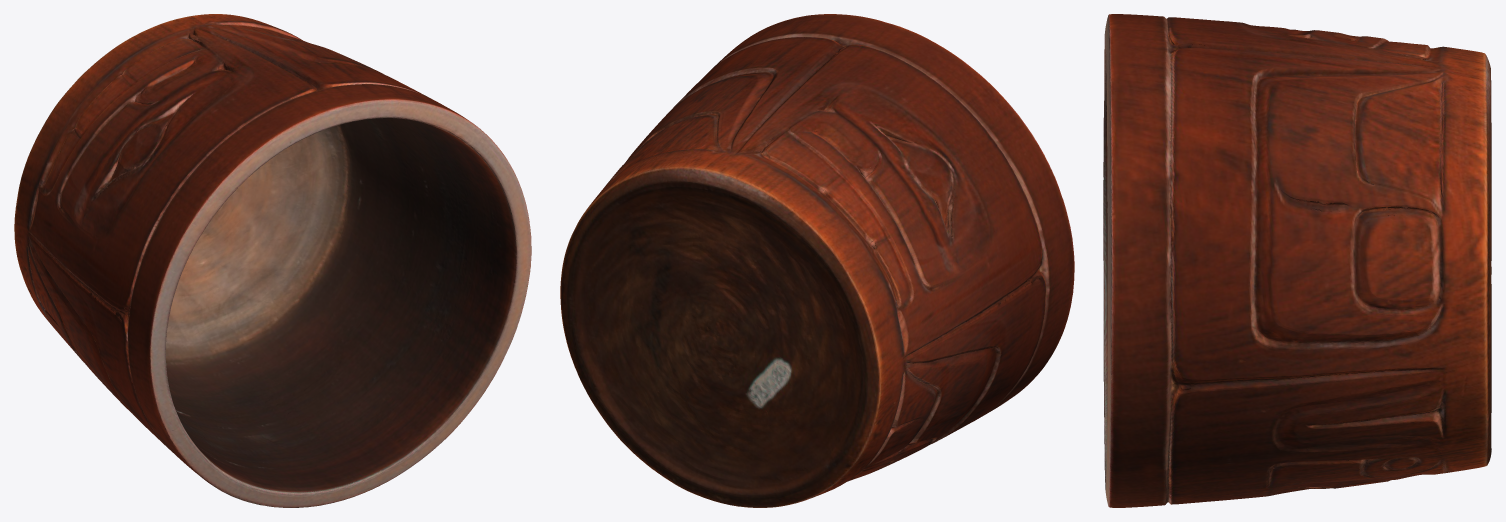
3 renders of one model, left to right at view 1: azimuth 30°, elevation 25°; view 2: azimuth 150°, elevation 25°; view 3: azimuth 270°, elevation 25°, orthographic. The views are drawn at different scales.
Parts seen in each view (by area): view 1: Object.1; view 2: Object.1; view 3: Object.1.
Part boxes in pixels (x1=…): Object.1: x1=14, y1=14, x2=531, y2=507; Object.1: x1=560, y1=14, x2=1074, y2=507; Object.1: x1=1103, y1=14, x2=1491, y2=507.
Bounding box in the file's own units: 121 × 119 × 92.58.
Materials: 1 (1 with a texture image).
